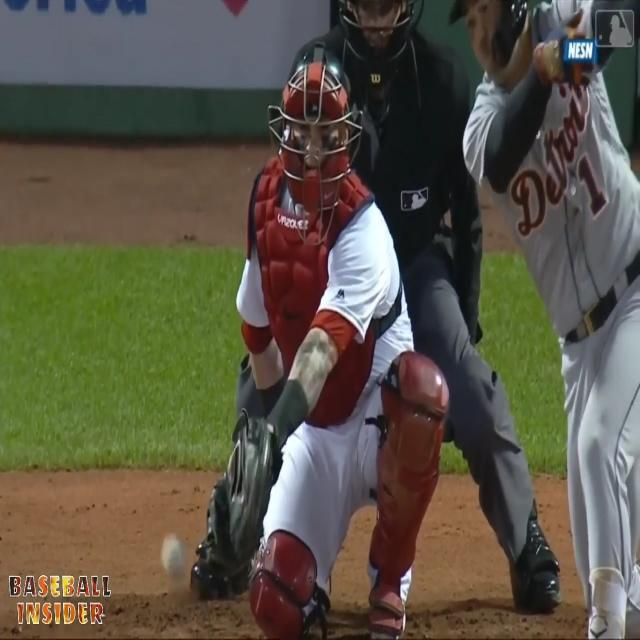baseball: (163, 534, 184, 574)
